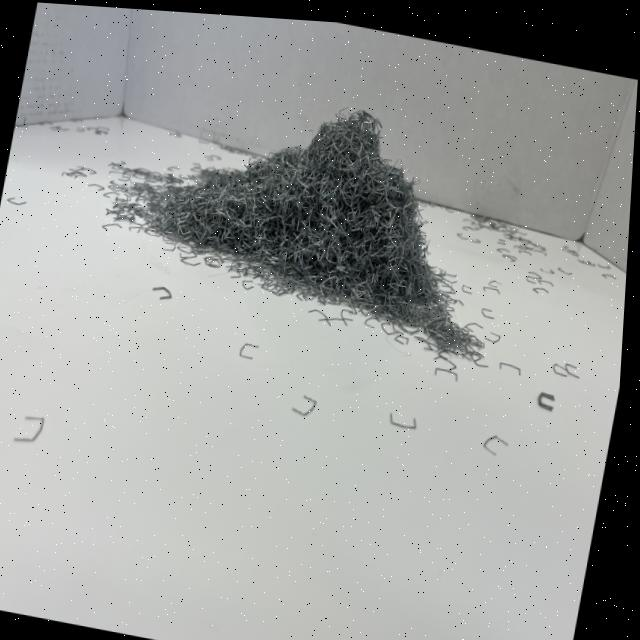staples: (85, 60, 527, 368)
